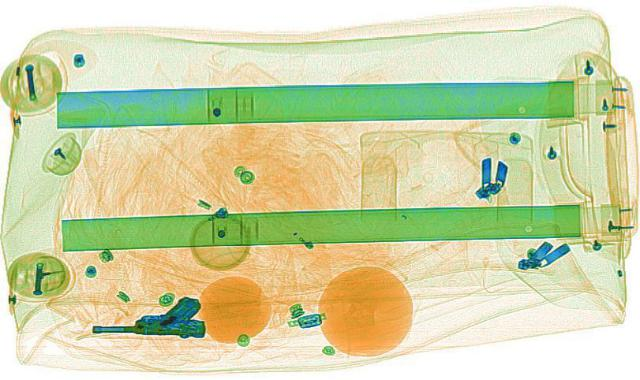Gun: (82, 293, 210, 342)
